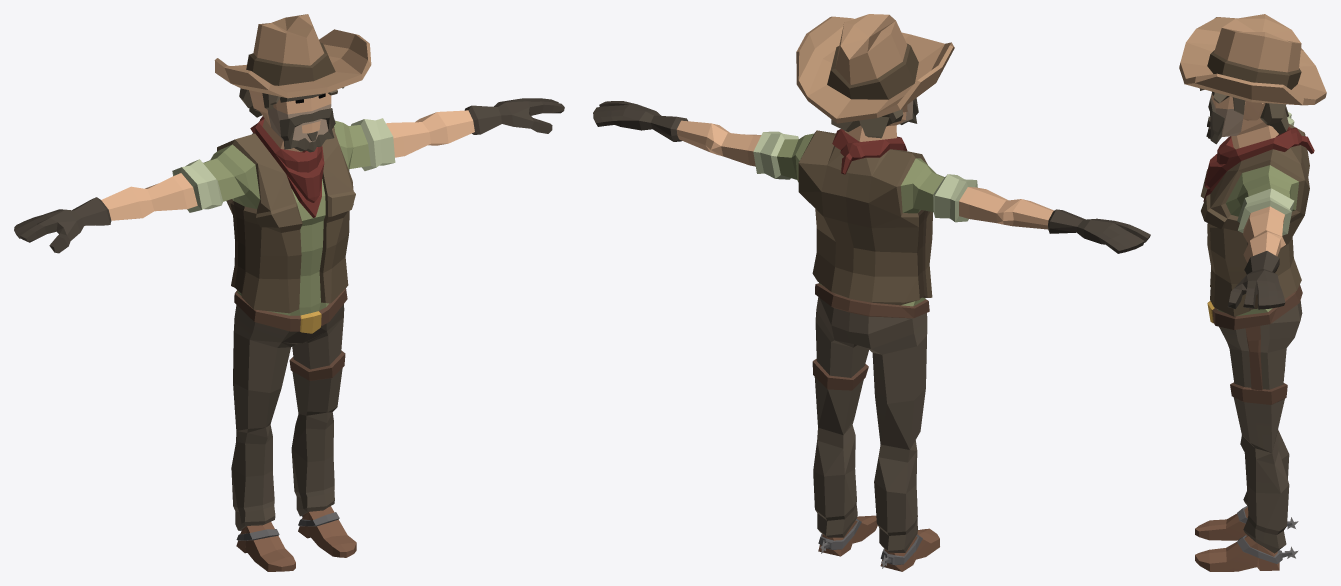
File: cowboy.fbx
3 renders of one model, left to right at view 1: azimuth 30°, elevation 25°; view 2: azimuth 150°, elevation 25°; view 3: azimuth 270°, elevation 25°, orthographic.
Visible parts, largest first — view 1: Character_Cowboy_01_2; view 2: Character_Cowboy_01_2; view 3: Character_Cowboy_01_2.
Part boxes in pixels (left/top/right/bottom): Character_Cowboy_01_2: left=14, top=14, right=564, bottom=571; Character_Cowboy_01_2: left=593, top=14, right=1150, bottom=571; Character_Cowboy_01_2: left=1179, top=14, right=1326, bottom=571.
Bounding box in the file's own units: 205 × 188 × 48.07.
